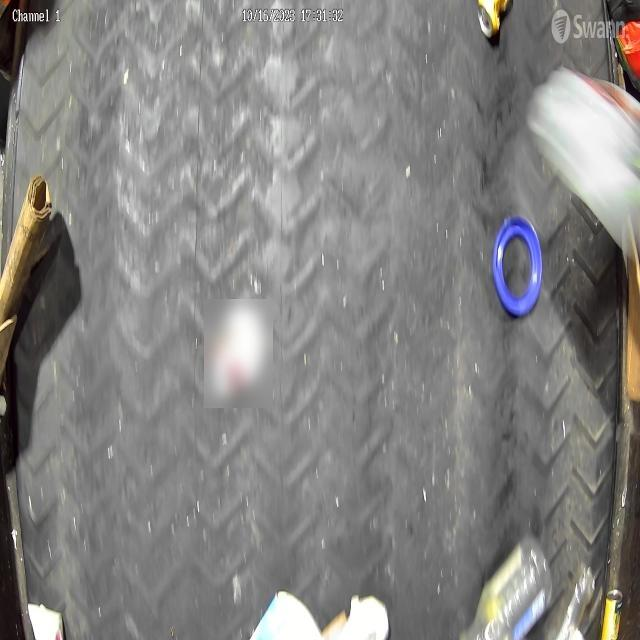plastic_bottle: (457, 536, 557, 640)
